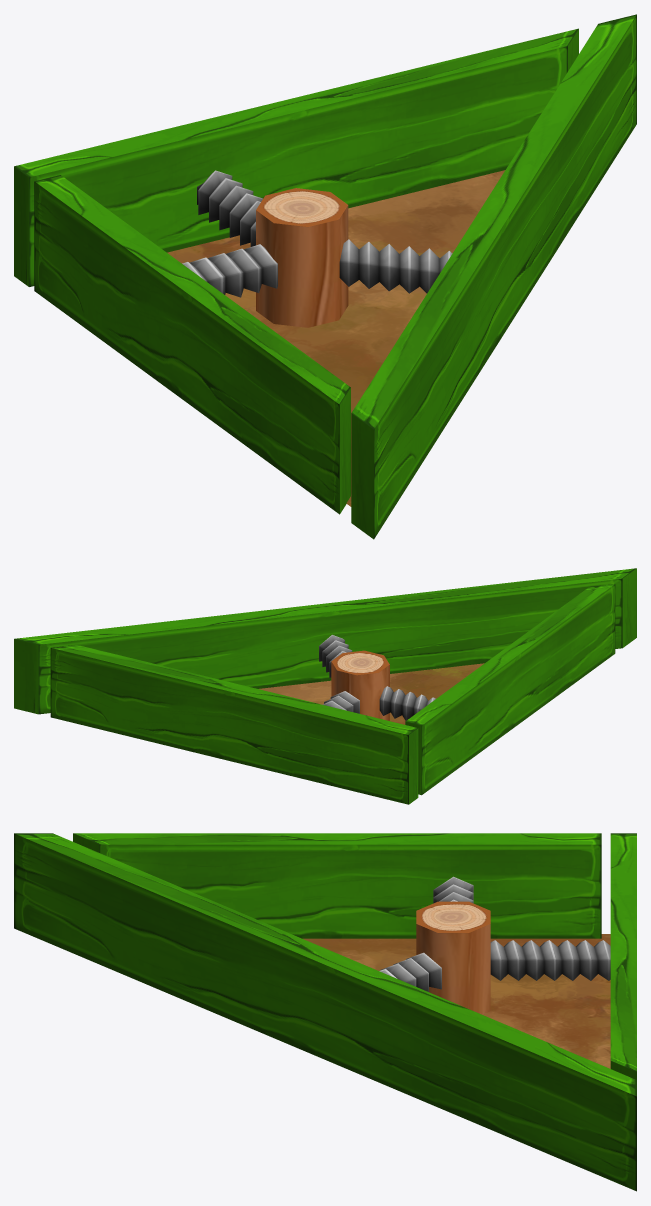
File: triangle_green_04.fbx
3 renders of one model, top to bottom at view 1: azimuth 30°, elevation 25°; view 2: azimuth 150°, elevation 25°; view 3: azimuth 270°, elevation 25°, orthographic. The views are drawn at different scales.
Visible parts, largest first — view 1: wall_47, wall_48, wall_46, floor_3, Middle_9; view 2: wall_48, wall_47, wall_46, floor_3, Middle_9; view 3: wall_48, wall_46, floor_3, wall_47, Middle_9.
Boxes of the visible parts, x1=… form: wall_47: x1=14, y1=28, x2=578, y2=286; wall_48: x1=339, y1=14, x2=636, y2=539; wall_46: x1=34, y1=175, x2=350, y2=514; floor_3: x1=167, y1=170, x2=505, y2=506; Middle_9: x1=256, y1=188, x2=348, y2=327; wall_48: x1=14, y1=568, x2=636, y2=714; wall_47: x1=50, y1=645, x2=418, y2=804; wall_46: x1=379, y1=584, x2=615, y2=795; floor_3: x1=259, y1=663, x2=484, y2=724; Middle_9: x1=331, y1=650, x2=389, y2=720; wall_48: x1=14, y1=833, x2=636, y2=1191; wall_46: x1=73, y1=833, x2=601, y2=938; floor_3: x1=303, y1=934, x2=610, y2=1068; wall_47: x1=490, y1=833, x2=636, y2=1079; Middle_9: x1=416, y1=901, x2=490, y2=1014.
Bounding box in the file's own units: 238 × 40 × 238.
